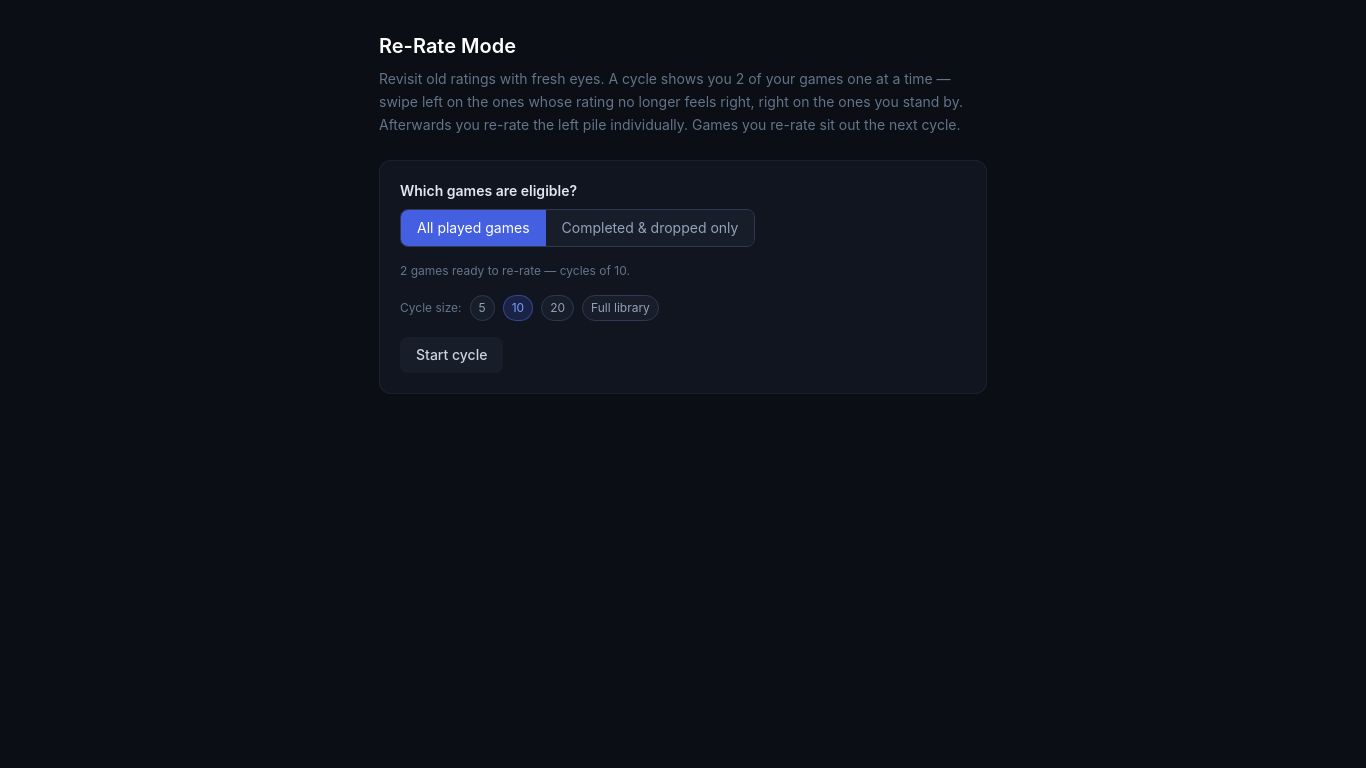
Test case: RerateMode — swipe phase › shows the current game, progress bars and genre matches
Expected: the text "2 games ready to re-rate — cycles of 10." is shown, [400,263,630,278]
Click the button "Start cycle". click: click(452, 355)
box: [400,337,503,373]
(page scrolled)
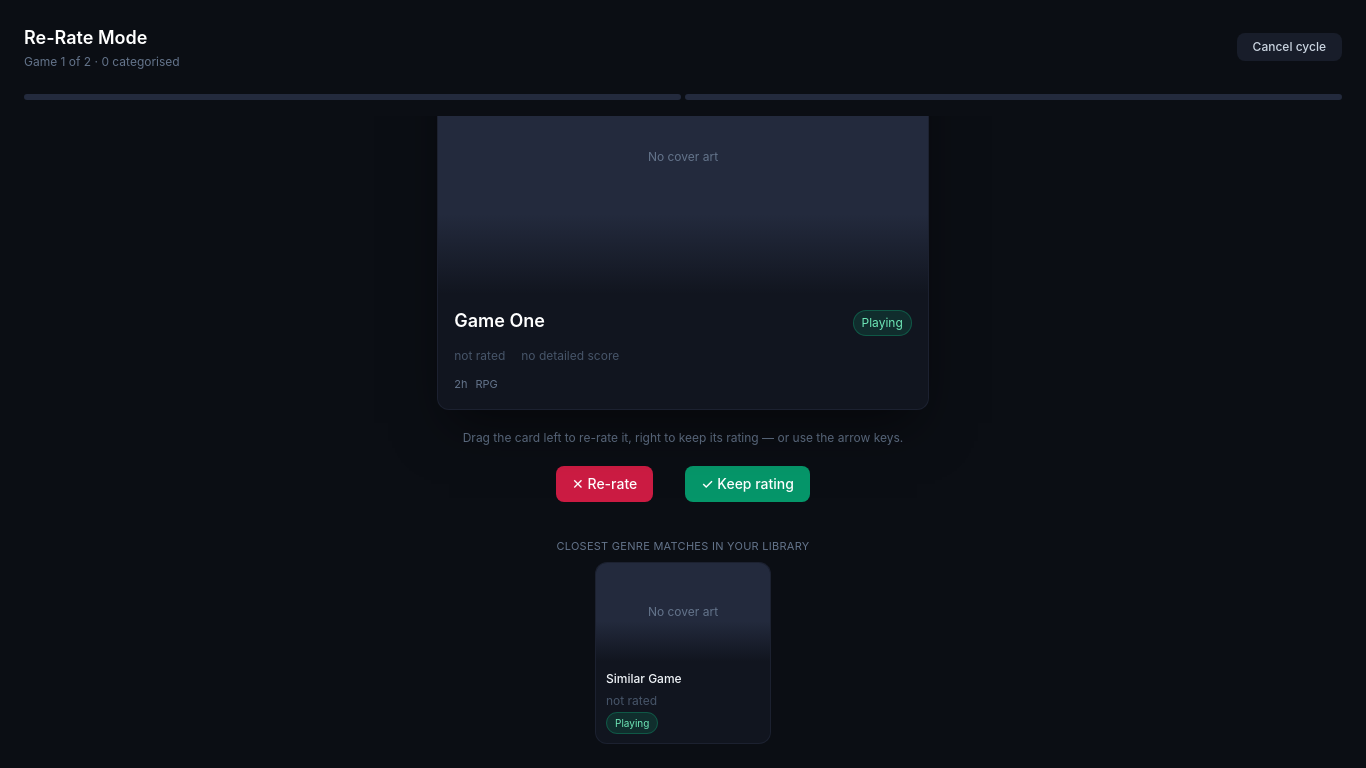
Expected: the text "Game 1 of 2 · 0 categorised" is shown, [24,54,180,70]
Expected: the heading "Game One" is shown, [454,310,545,333]
Expected: the heading "Similar Game" is shown, [606,671,682,686]
